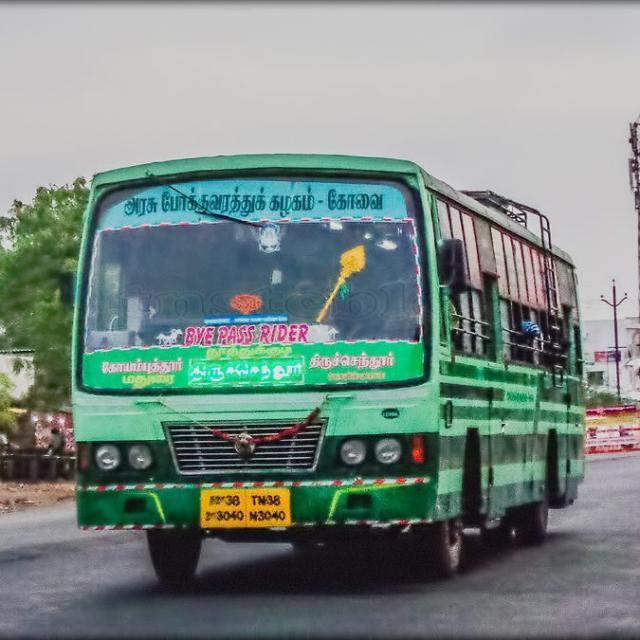Bus: (59, 148, 587, 582)
